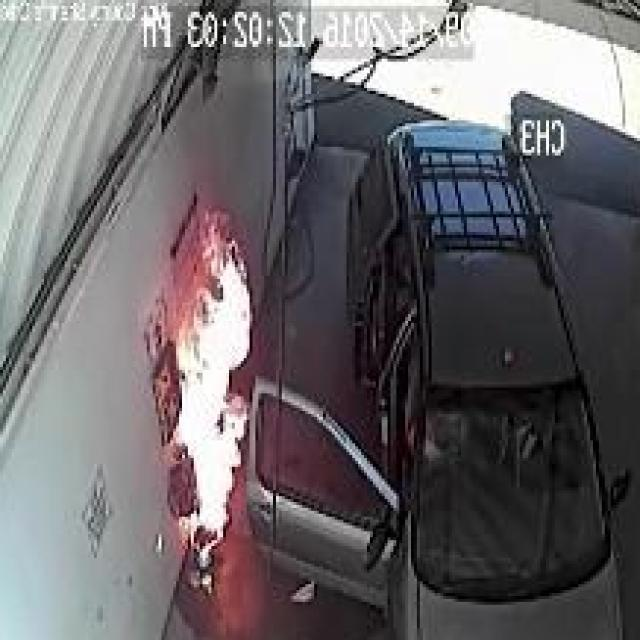smoke: (156, 215, 262, 554)
